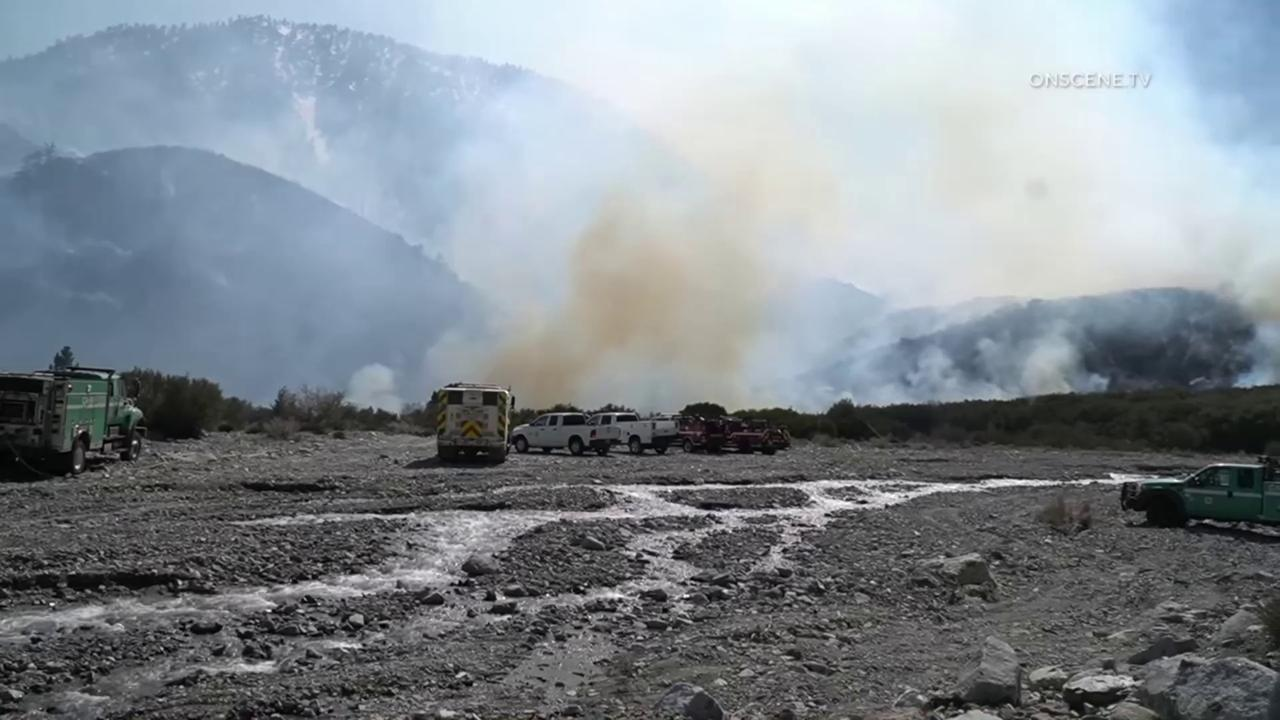smoke: (0, 0, 1280, 414)
